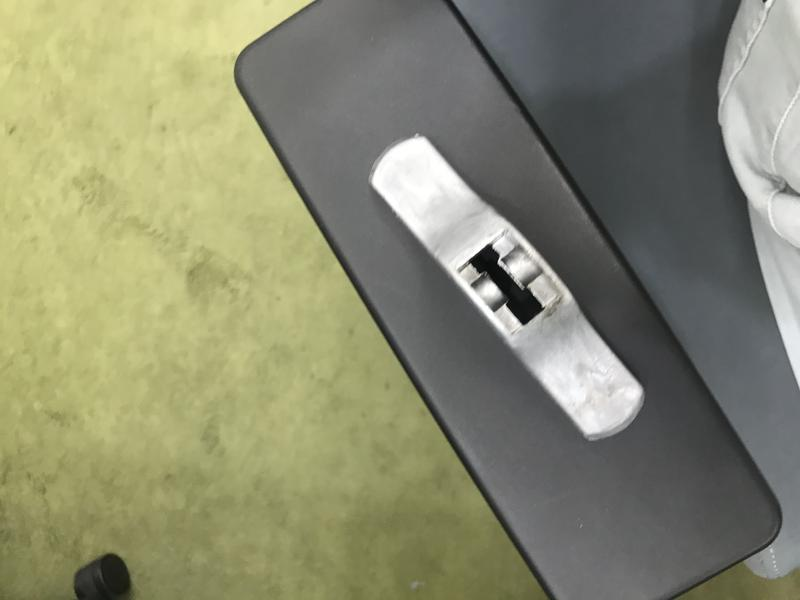zapchast: (358, 121, 657, 450)
